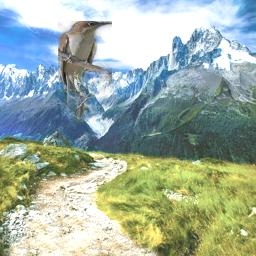Cuckoo: (58, 21, 112, 122)
